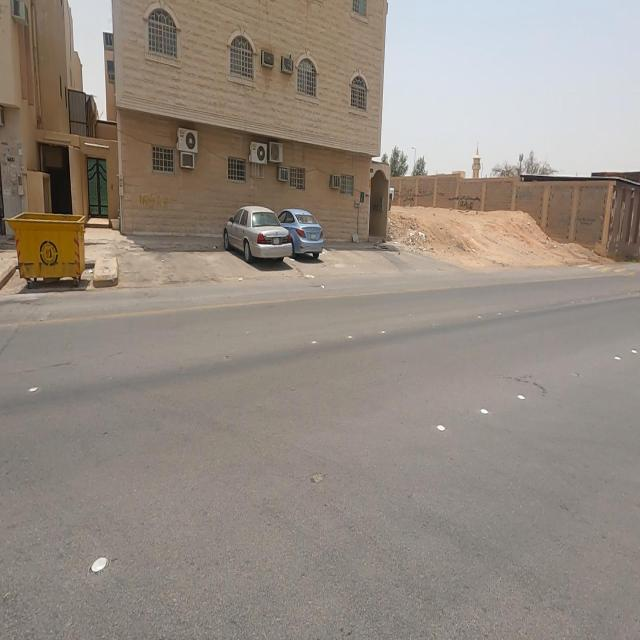Graffiti: (139, 193, 169, 214), (450, 197, 481, 209), (402, 188, 414, 205), (419, 190, 432, 199)
